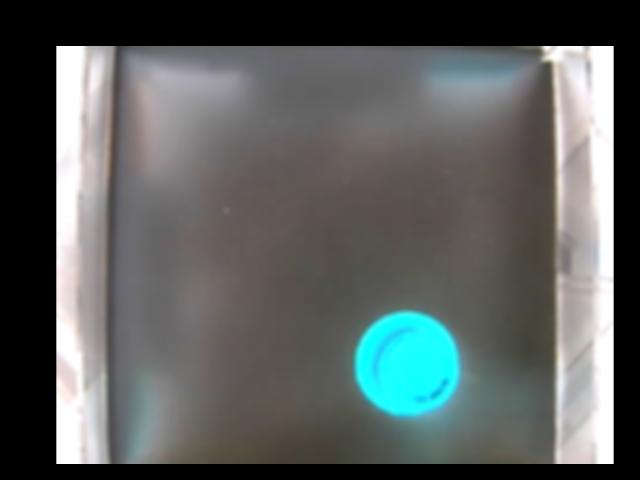Cup: (354, 308, 460, 416)
